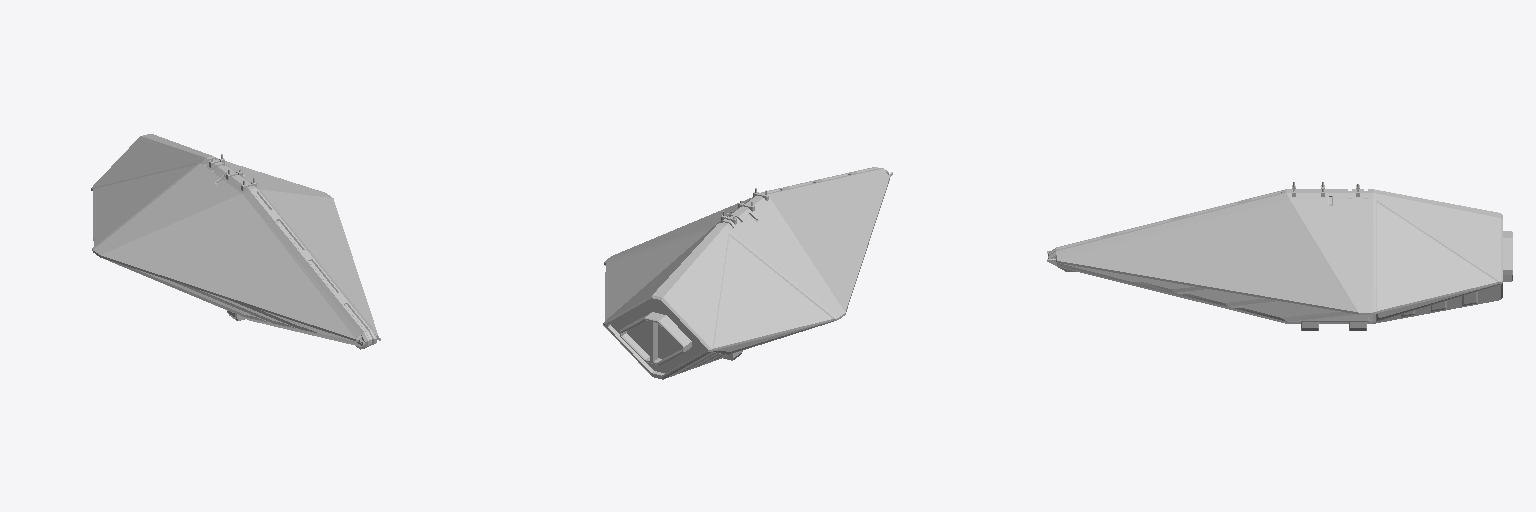
File: oolite_python_trader.obj
3 views of the same model, side by side, from view 1: azimuth 30°, elevation 25°; view 2: azimuth 150°, elevation 25°; view 3: azimuth 270°, elevation 25° (orthographic).
Parts seen in each view (by area): view 1: Python.obj; view 2: Python.obj; view 3: Python.obj.
Part boxes in pixels (bbox=[...]): Python.obj: bbox=[91, 134, 380, 349]; Python.obj: bbox=[603, 167, 892, 379]; Python.obj: bbox=[1047, 182, 1512, 330].
Size of the model in its own units: 77.62 by 45.39 by 134.